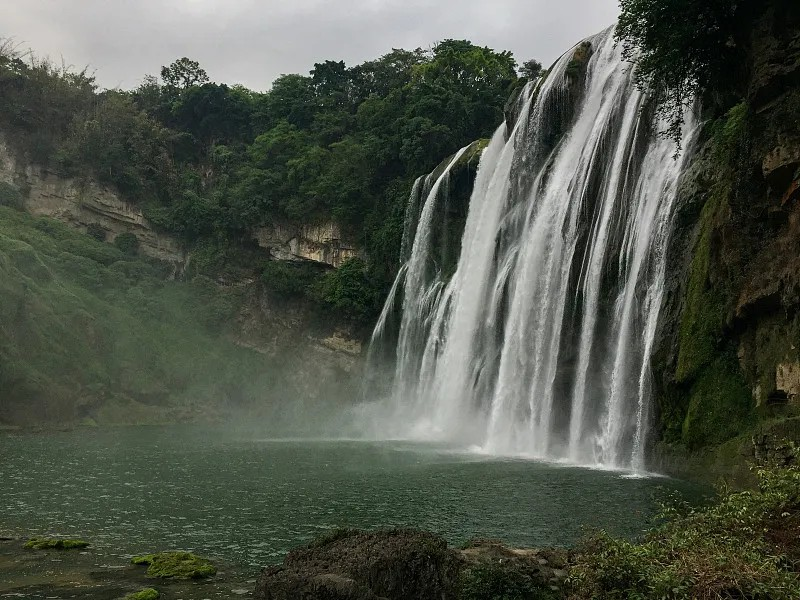Huangguoshu: (365, 26, 694, 469)
